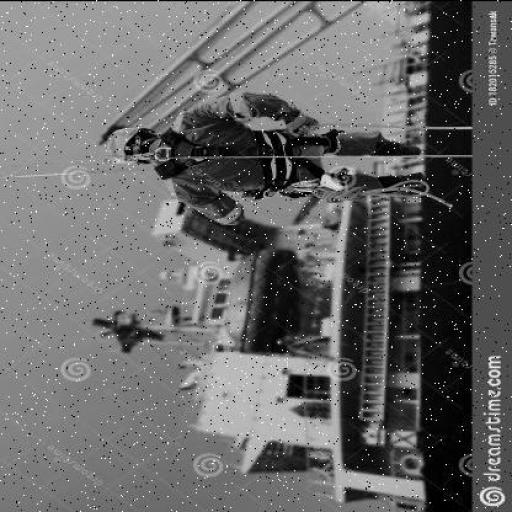person: (92, 93, 444, 217)
safety_shoe: (372, 167, 429, 196), (370, 134, 424, 158)
